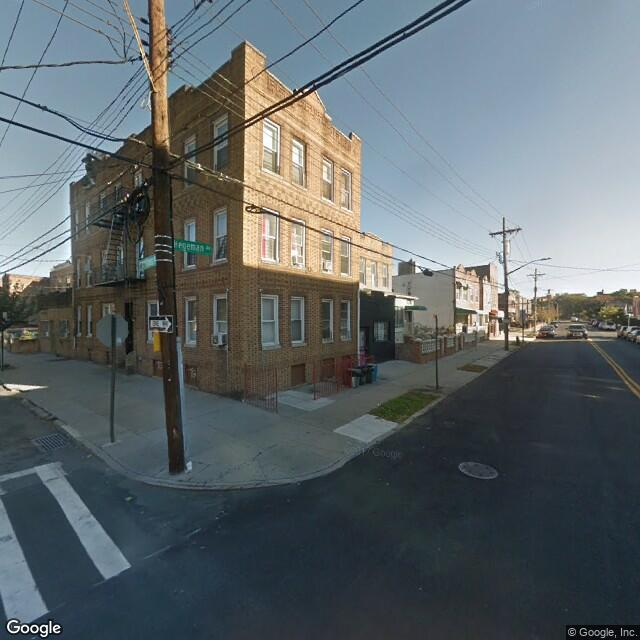litter: (125, 496, 131, 502)
